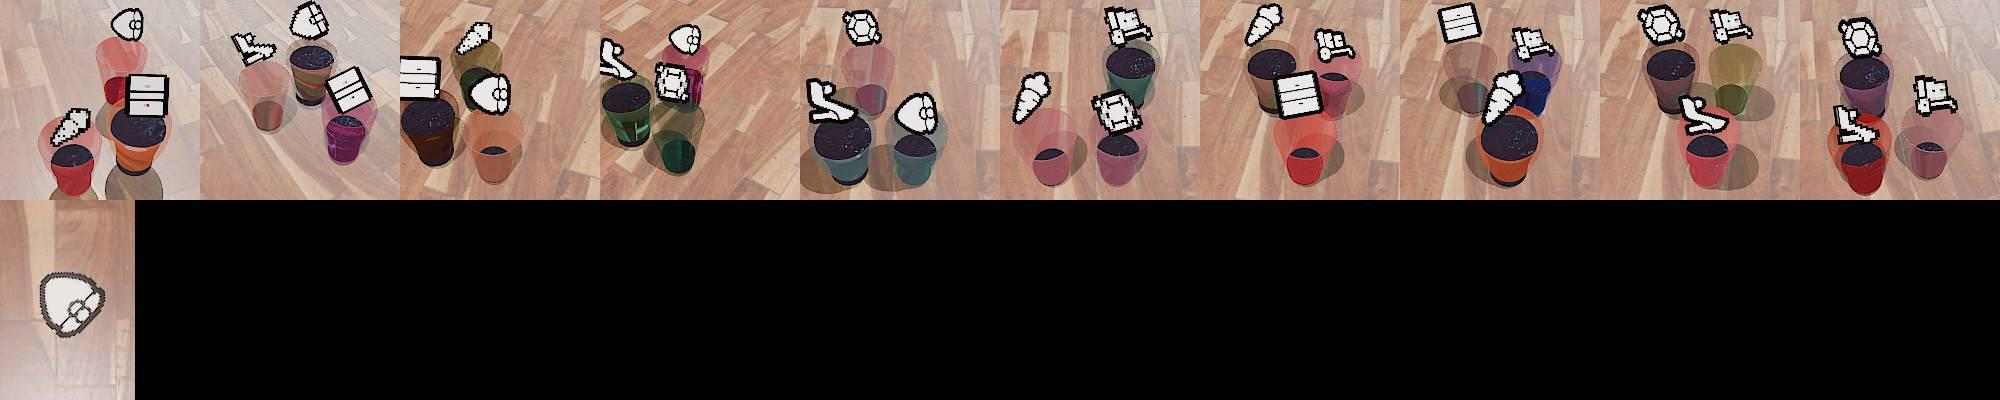icon: (37, 270, 107, 338), (1272, 68, 1324, 118), (324, 65, 372, 116), (1091, 88, 1142, 135), (806, 76, 857, 124), (1677, 92, 1731, 136), (1483, 69, 1526, 125), (126, 71, 170, 121), (1011, 71, 1051, 124), (1636, 4, 1685, 46), (893, 92, 937, 136), (467, 71, 511, 116), (1436, 3, 1482, 46), (1834, 103, 1881, 145), (1103, 5, 1151, 47), (1912, 74, 1958, 116), (1838, 18, 1881, 61), (399, 55, 440, 101), (1708, 8, 1755, 46), (230, 32, 278, 69), (50, 106, 92, 148), (1510, 25, 1556, 64), (1244, 3, 1283, 46), (598, 37, 635, 82), (653, 61, 693, 102), (288, 1, 329, 41), (842, 9, 883, 47), (1314, 27, 1356, 62), (455, 20, 492, 56), (111, 8, 144, 42), (667, 23, 702, 56)
